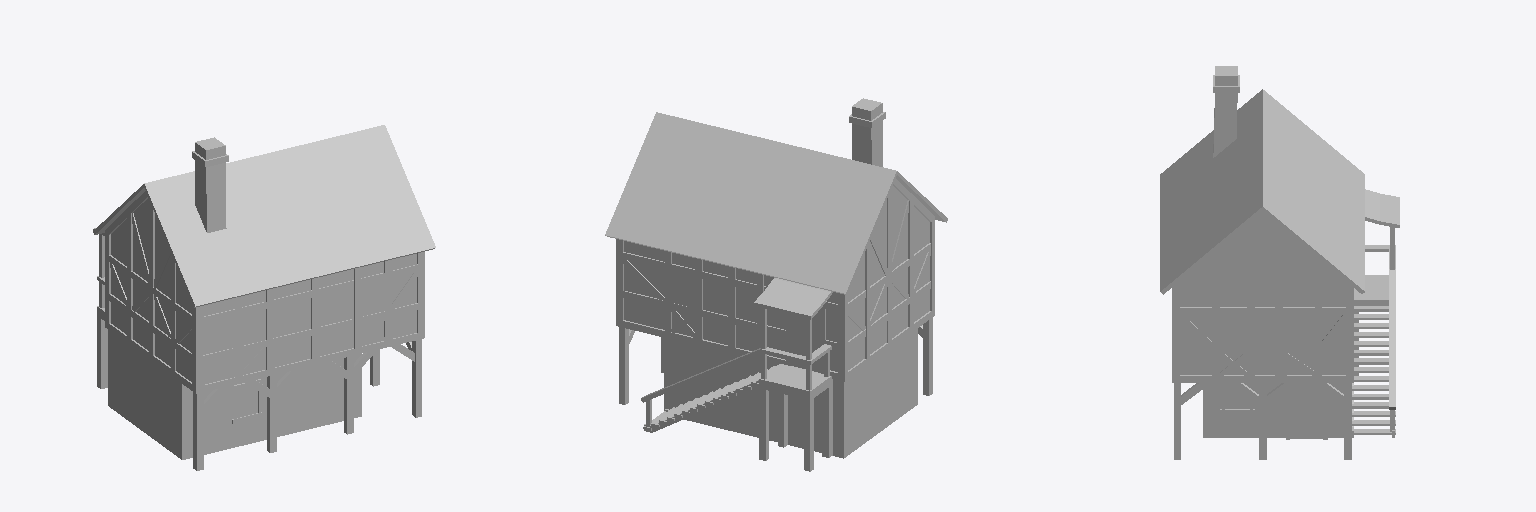
The model's file is medievhouse.obj.
3 renders of one model, left to right at view 1: azimuth 30°, elevation 25°; view 2: azimuth 150°, elevation 25°; view 3: azimuth 270°, elevation 25°, orthographic.
Visible parts, largest first — view 1: Cube.014_Cube.674; view 2: Cube.014_Cube.674; view 3: Cube.014_Cube.674.
Boxes of the visible parts, x1=… form: Cube.014_Cube.674: x1=93, y1=125, x2=435, y2=470; Cube.014_Cube.674: x1=605, y1=98, x2=947, y2=471; Cube.014_Cube.674: x1=1160, y1=66, x2=1399, y2=459.
Bounding box in the file's own units: 9.37 × 11.12 × 8.08.